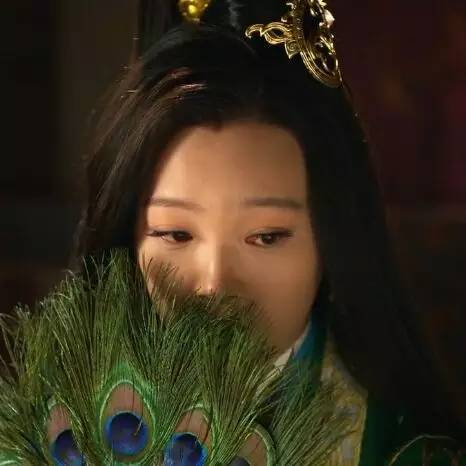face: (131, 126, 312, 378)
